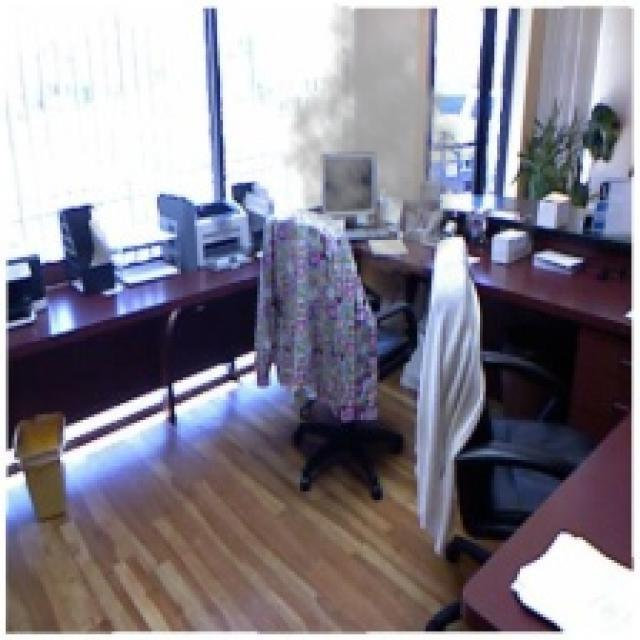Smoke: (280, 2, 480, 278)
